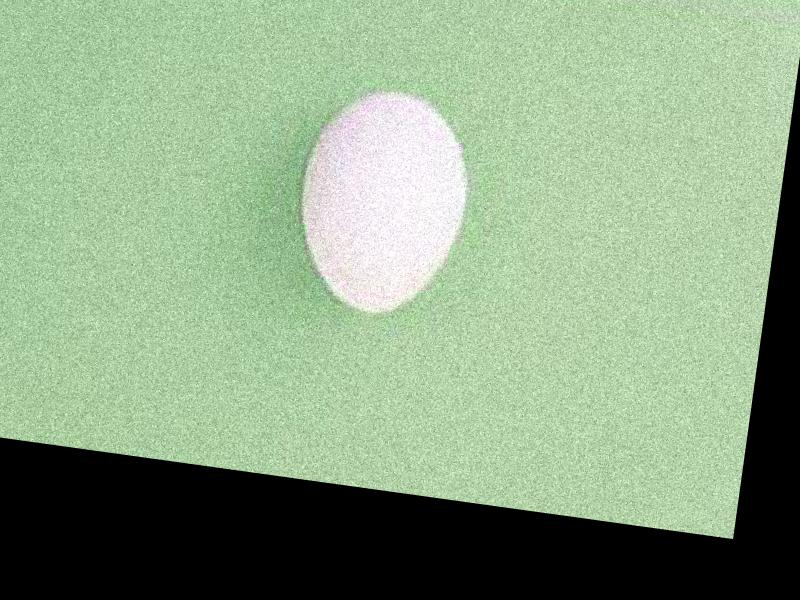Eggs: (288, 83, 476, 322)
